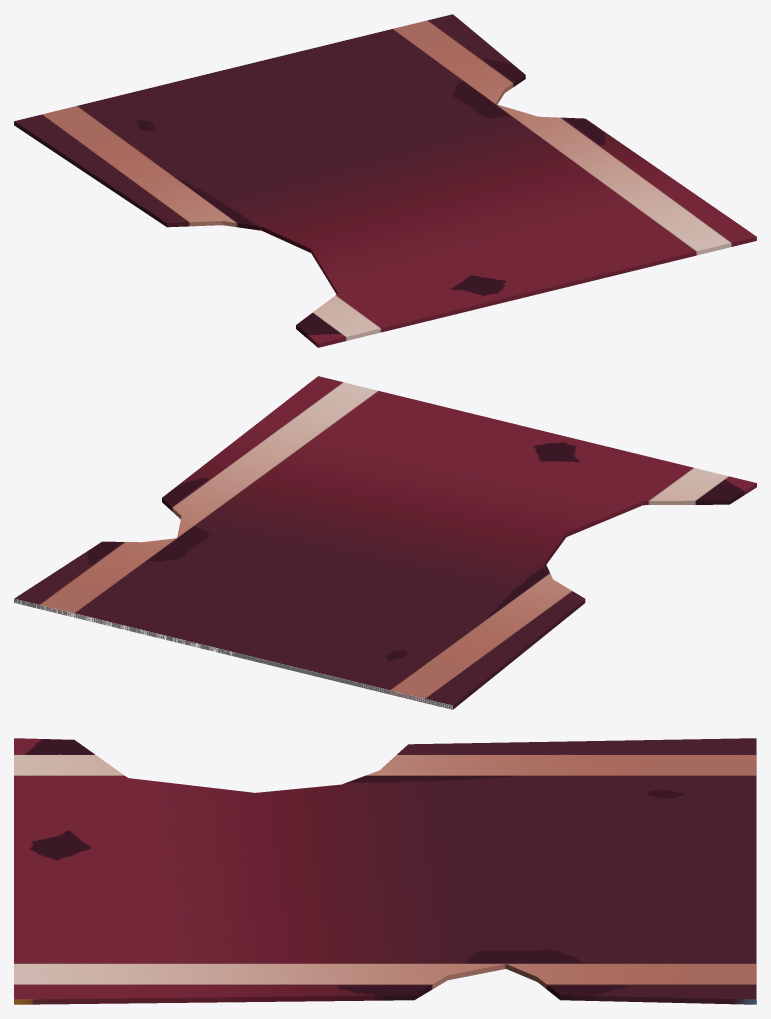
Rendered from Carpet 01 Center 02.fbx.
3 renders of one model, top to bottom at view 1: azimuth 30°, elevation 25°; view 2: azimuth 150°, elevation 25°; view 3: azimuth 270°, elevation 25°, orthographic. The views are drawn at different scales.
Visible parts, largest first — view 1: Carpet 01 Center 02.001; view 2: Carpet 01 Center 02.001; view 3: Carpet 01 Center 02.001.
Boxes of the visible parts, bbox=[...] form: Carpet 01 Center 02.001: bbox=[14, 14, 756, 347]; Carpet 01 Center 02.001: bbox=[14, 376, 756, 709]; Carpet 01 Center 02.001: bbox=[14, 738, 756, 1004].
Bounding box in the file's own units: 167 × 1.5 × 200.
